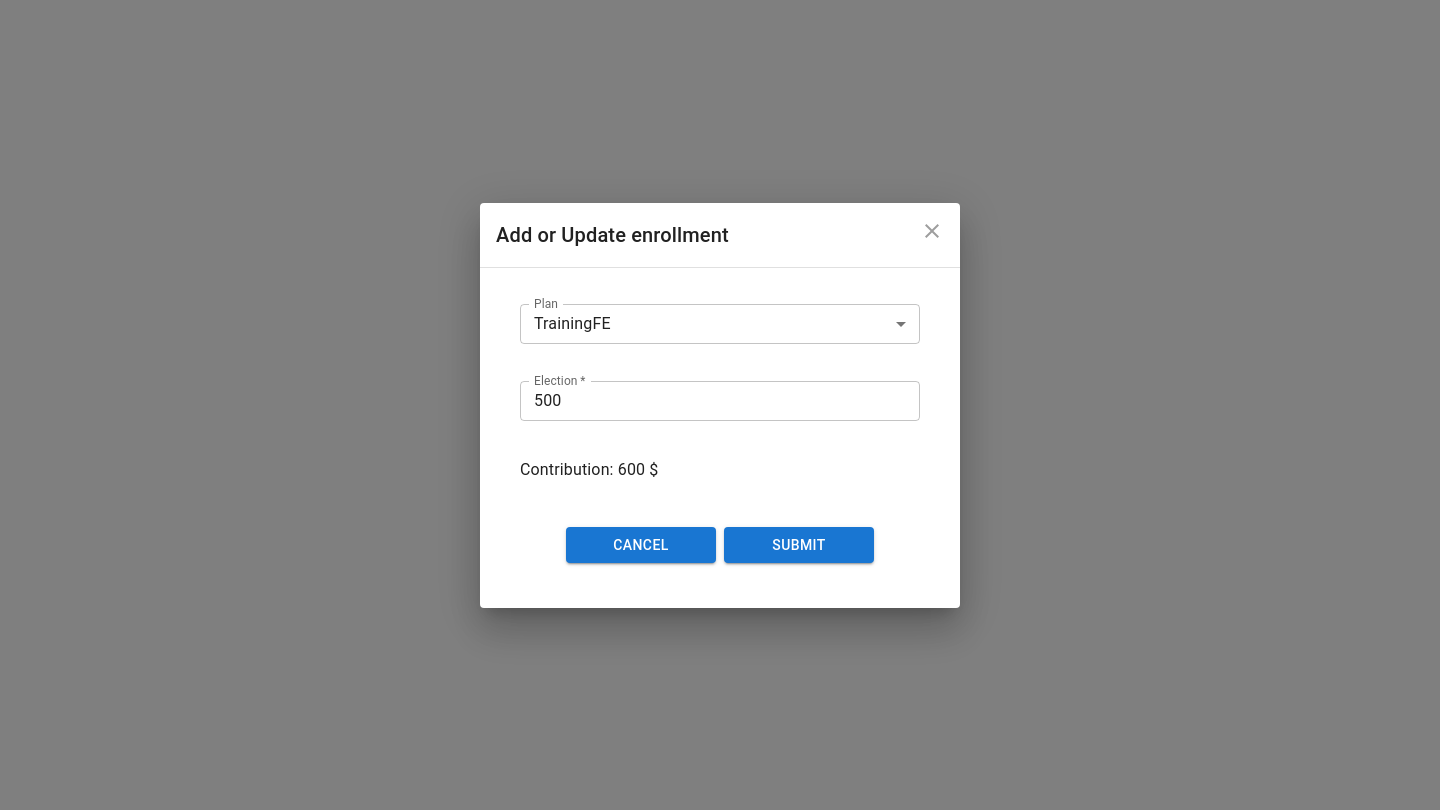
Test: Enrollments dialog form › should show error message on submit when there is server error
Click the button "Submit".
click(799, 545)  # box x1=724 y1=527 x2=874 y2=564
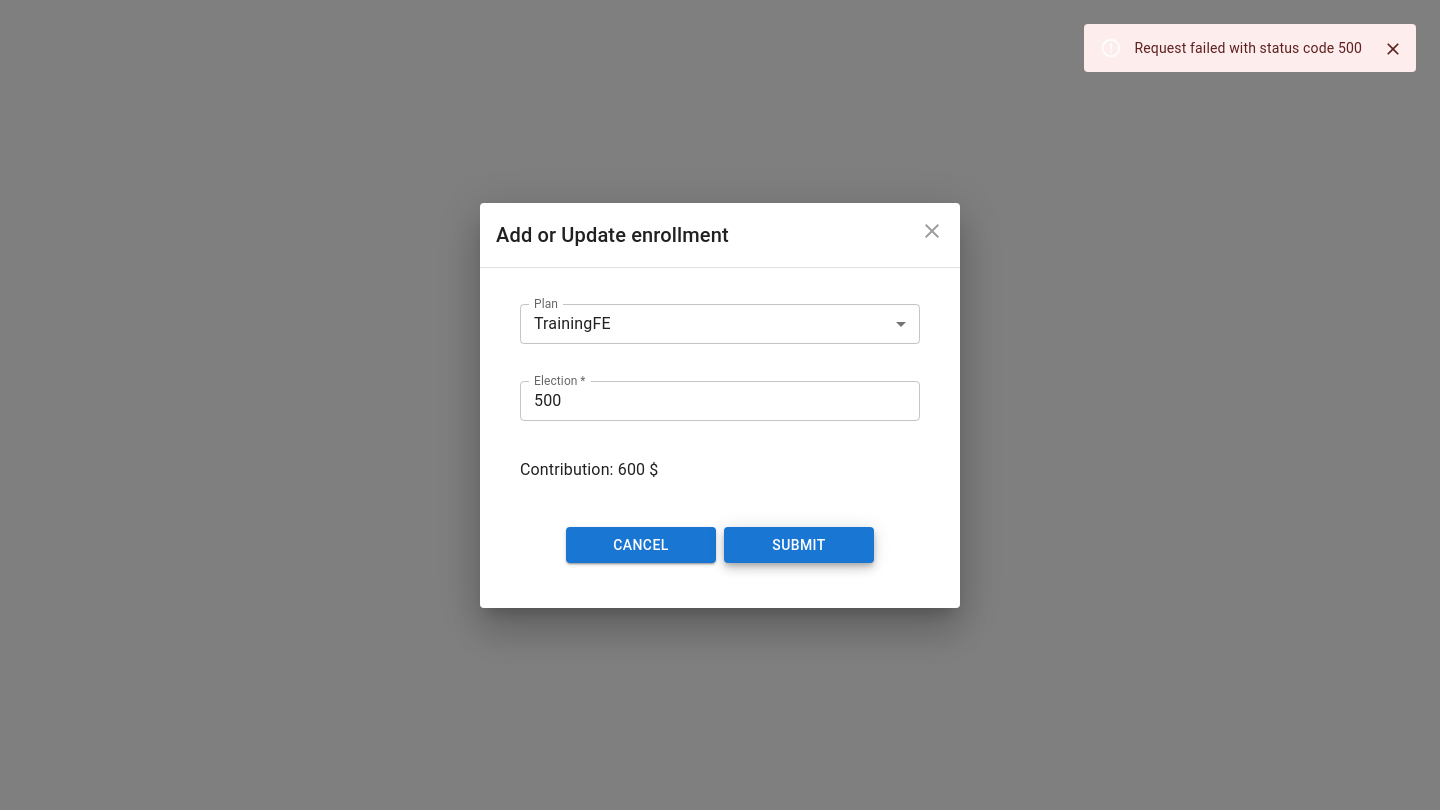
Check: the text "Request failed with status code 500" is shown, box x1=1134 y1=40 x2=1362 y2=56
